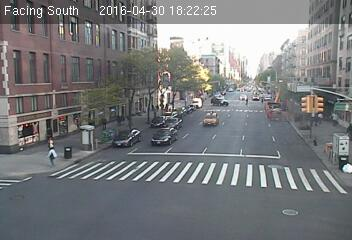neg: (75, 122, 107, 164), (10, 174, 38, 212), (31, 71, 58, 107), (203, 165, 227, 198), (234, 117, 258, 149), (71, 178, 95, 210), (154, 112, 177, 143), (297, 90, 320, 120), (129, 54, 150, 81), (164, 180, 184, 208), (174, 59, 194, 85), (240, 58, 260, 84), (117, 127, 136, 153), (271, 97, 290, 122), (292, 153, 311, 178), (88, 76, 106, 100), (206, 106, 224, 130), (288, 55, 303, 76), (267, 177, 280, 195), (63, 144, 76, 161)
pos: (42, 134, 61, 159)
